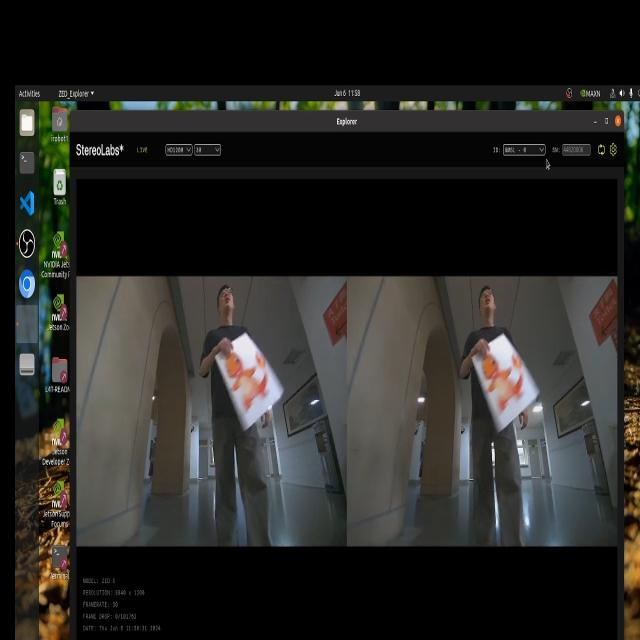red: (214, 345, 280, 419), (481, 344, 526, 416)
